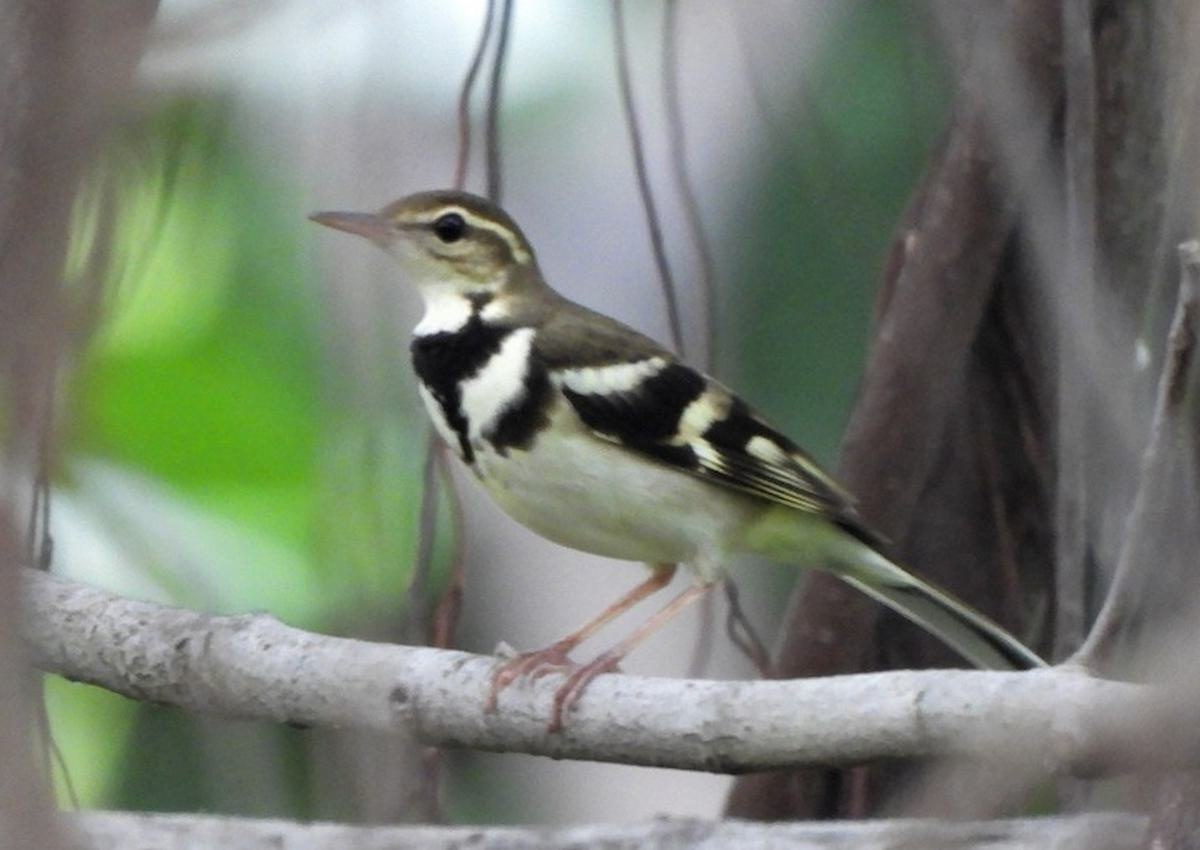wagtail: (334, 165, 870, 620)
